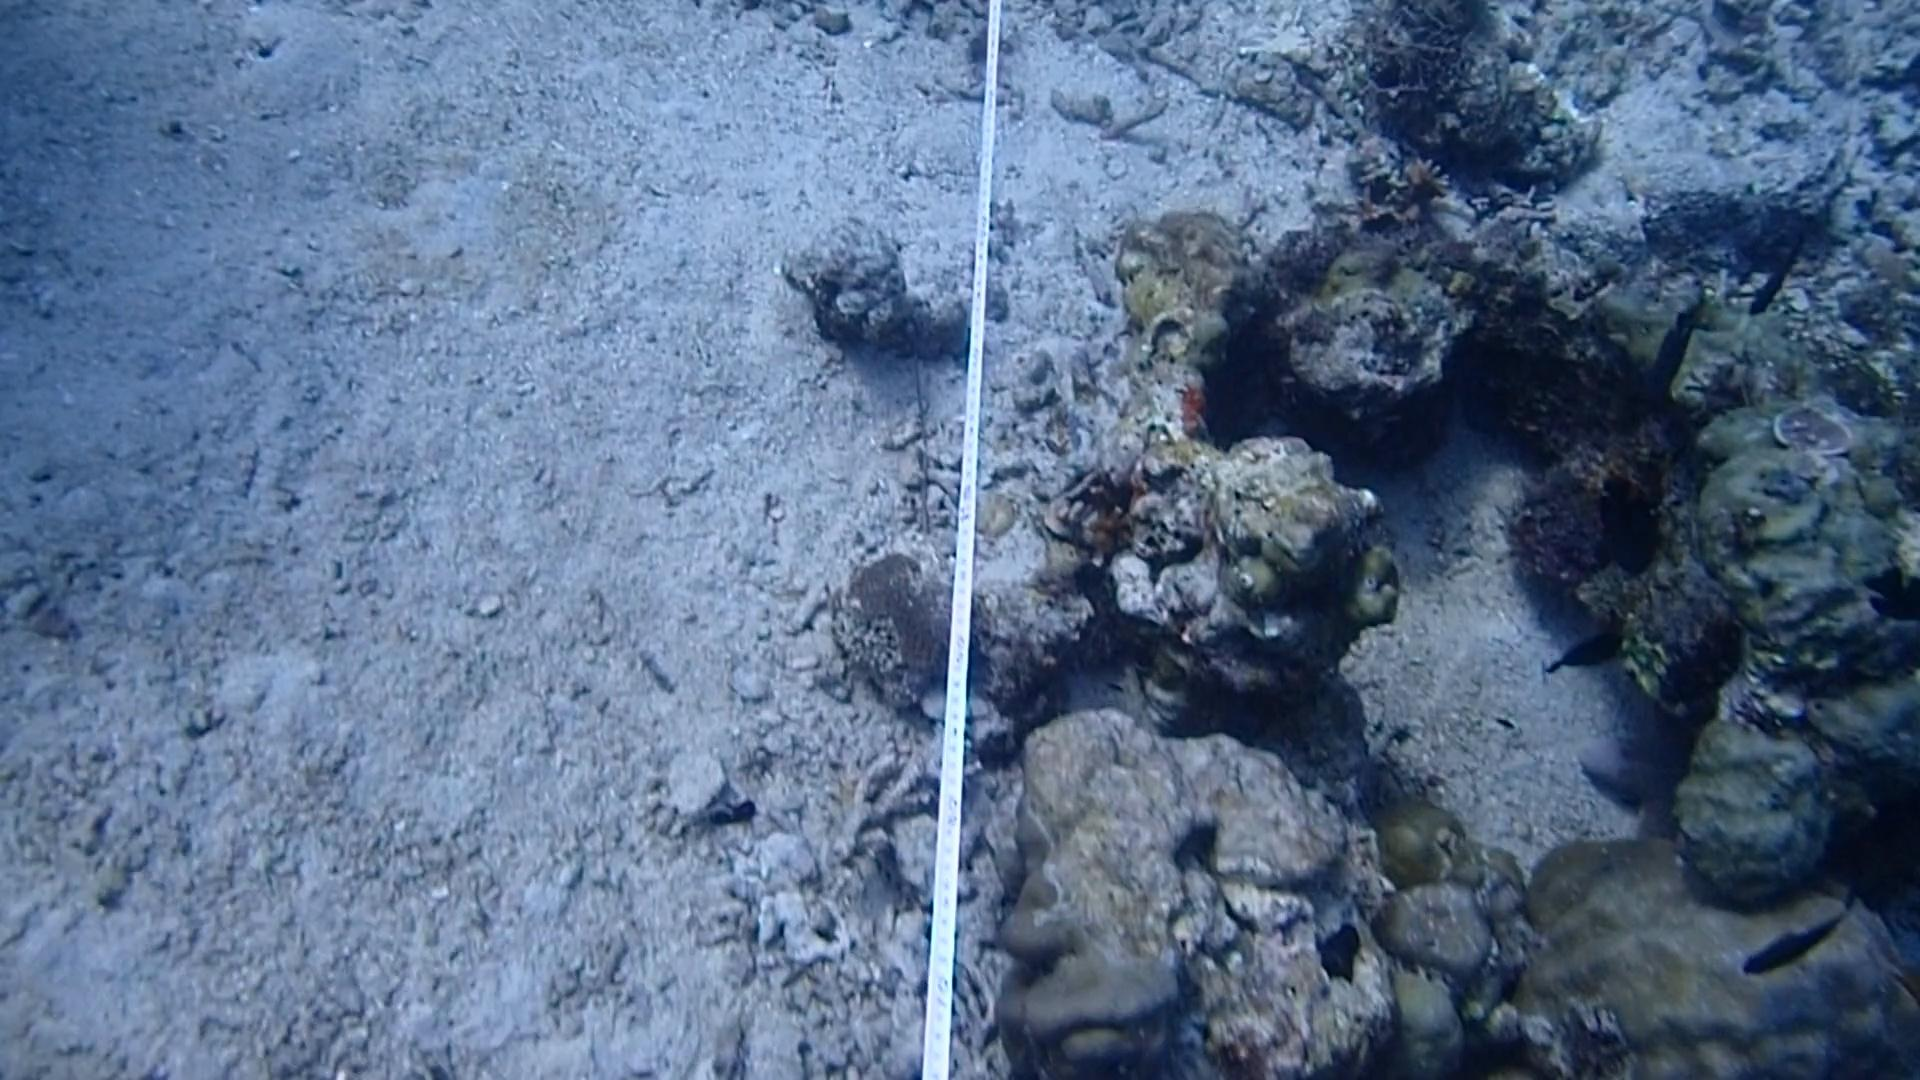Dark Fish: (1724, 890, 1840, 989), (1586, 454, 1667, 579), (1729, 223, 1820, 327), (1633, 287, 1708, 401), (1540, 612, 1636, 690), (1851, 545, 1920, 634)
